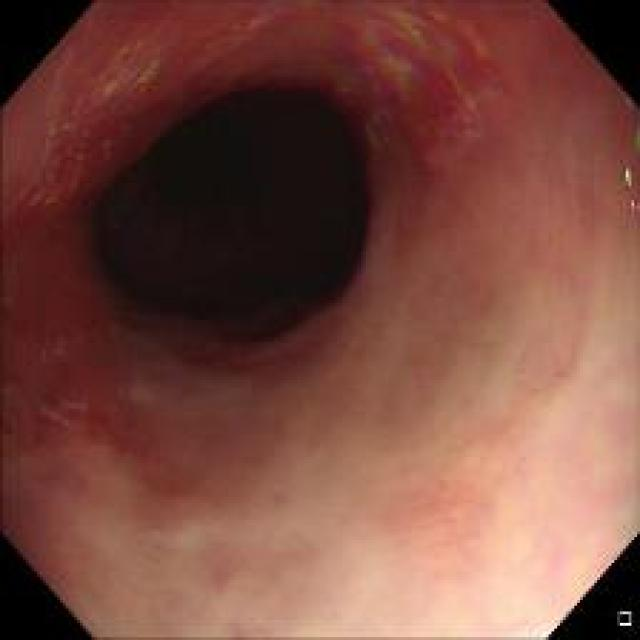color misalignment: (336, 4, 504, 126), (228, 2, 289, 46), (618, 161, 639, 219), (621, 119, 639, 159)
contrast: (95, 88, 364, 330)
